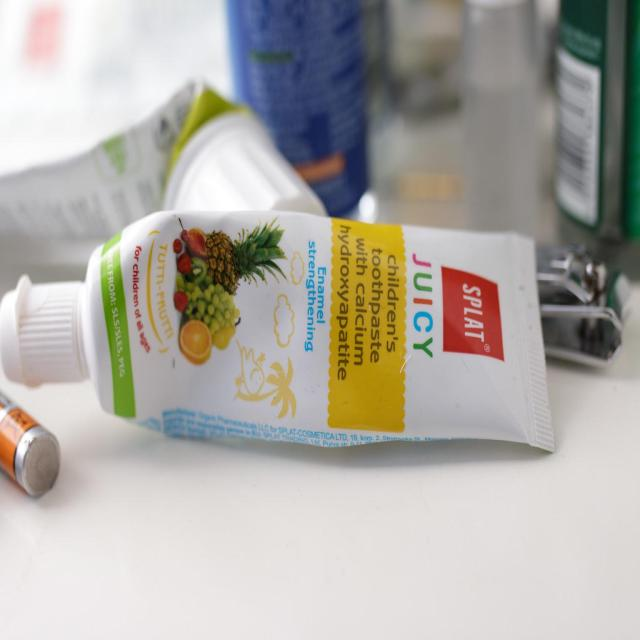Toothpaste: (0, 206, 562, 458)
